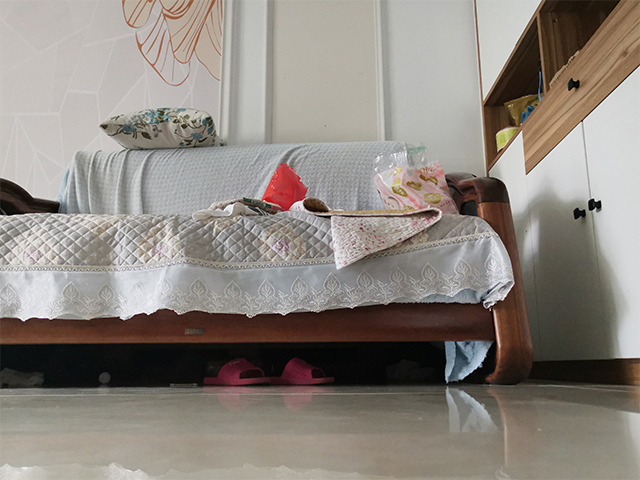cabinet: (478, 70, 640, 392)
slippers: (285, 358, 340, 388)
sofa: (1, 145, 535, 392)
